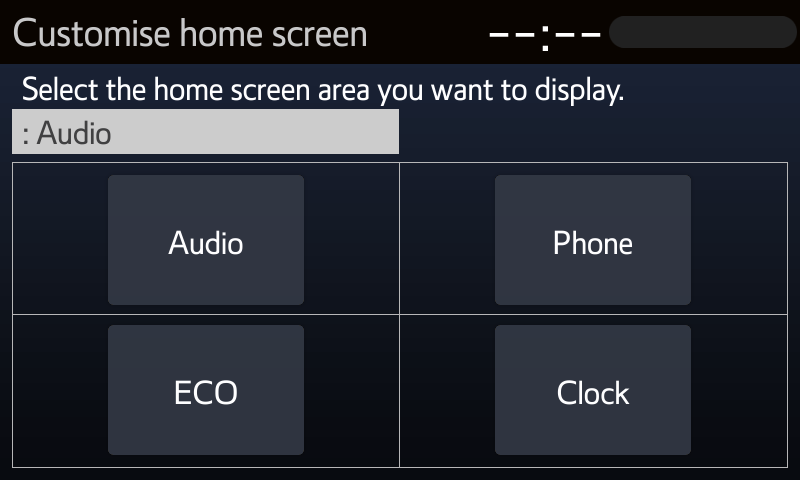untouchPart: (494, 174, 694, 309), (104, 326, 306, 458), (493, 325, 695, 457), (109, 175, 305, 303), (18, 69, 626, 106), (11, 12, 374, 56), (609, 14, 797, 51), (478, 15, 601, 53)
